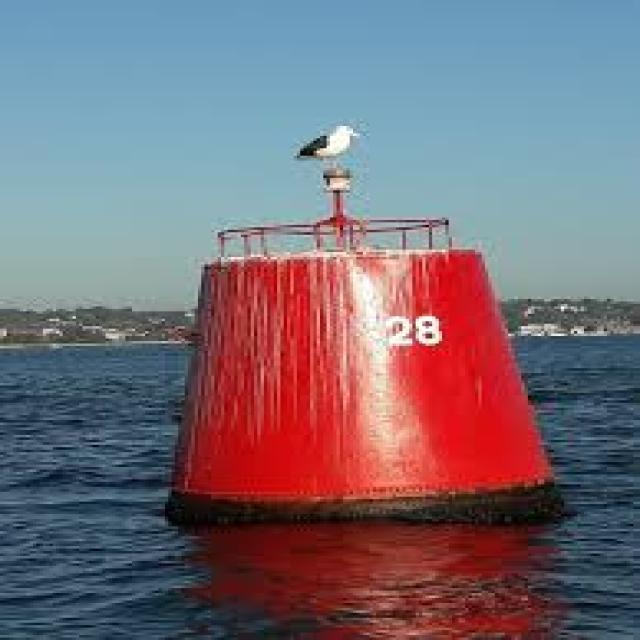2.1 lateral mark -P-: (179, 161, 571, 538)
